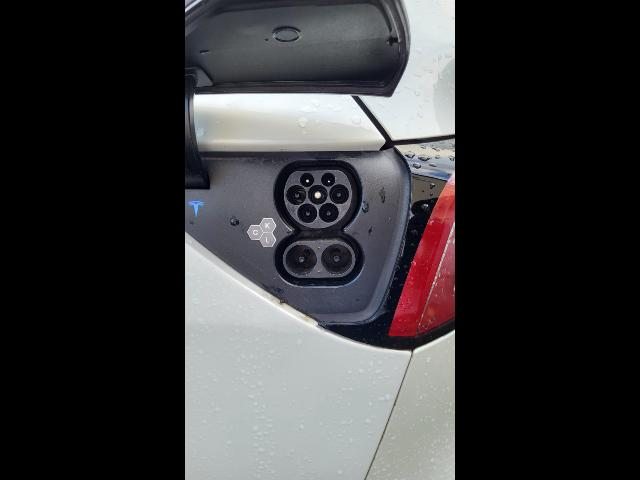inlet: (283, 170, 352, 228)
inlet-above-left: (300, 173, 314, 187)
inlet-above-right: (321, 172, 335, 187)
inlet-below-left: (298, 203, 317, 223)
inlet-below-right: (319, 203, 339, 223)
inlet-circle: (308, 184, 328, 205)
inlet-circle-left: (287, 185, 306, 205)
inlet-circle-right: (329, 184, 349, 205)
inlet-minus: (321, 244, 353, 275)
inlet-plus: (285, 245, 317, 275)
